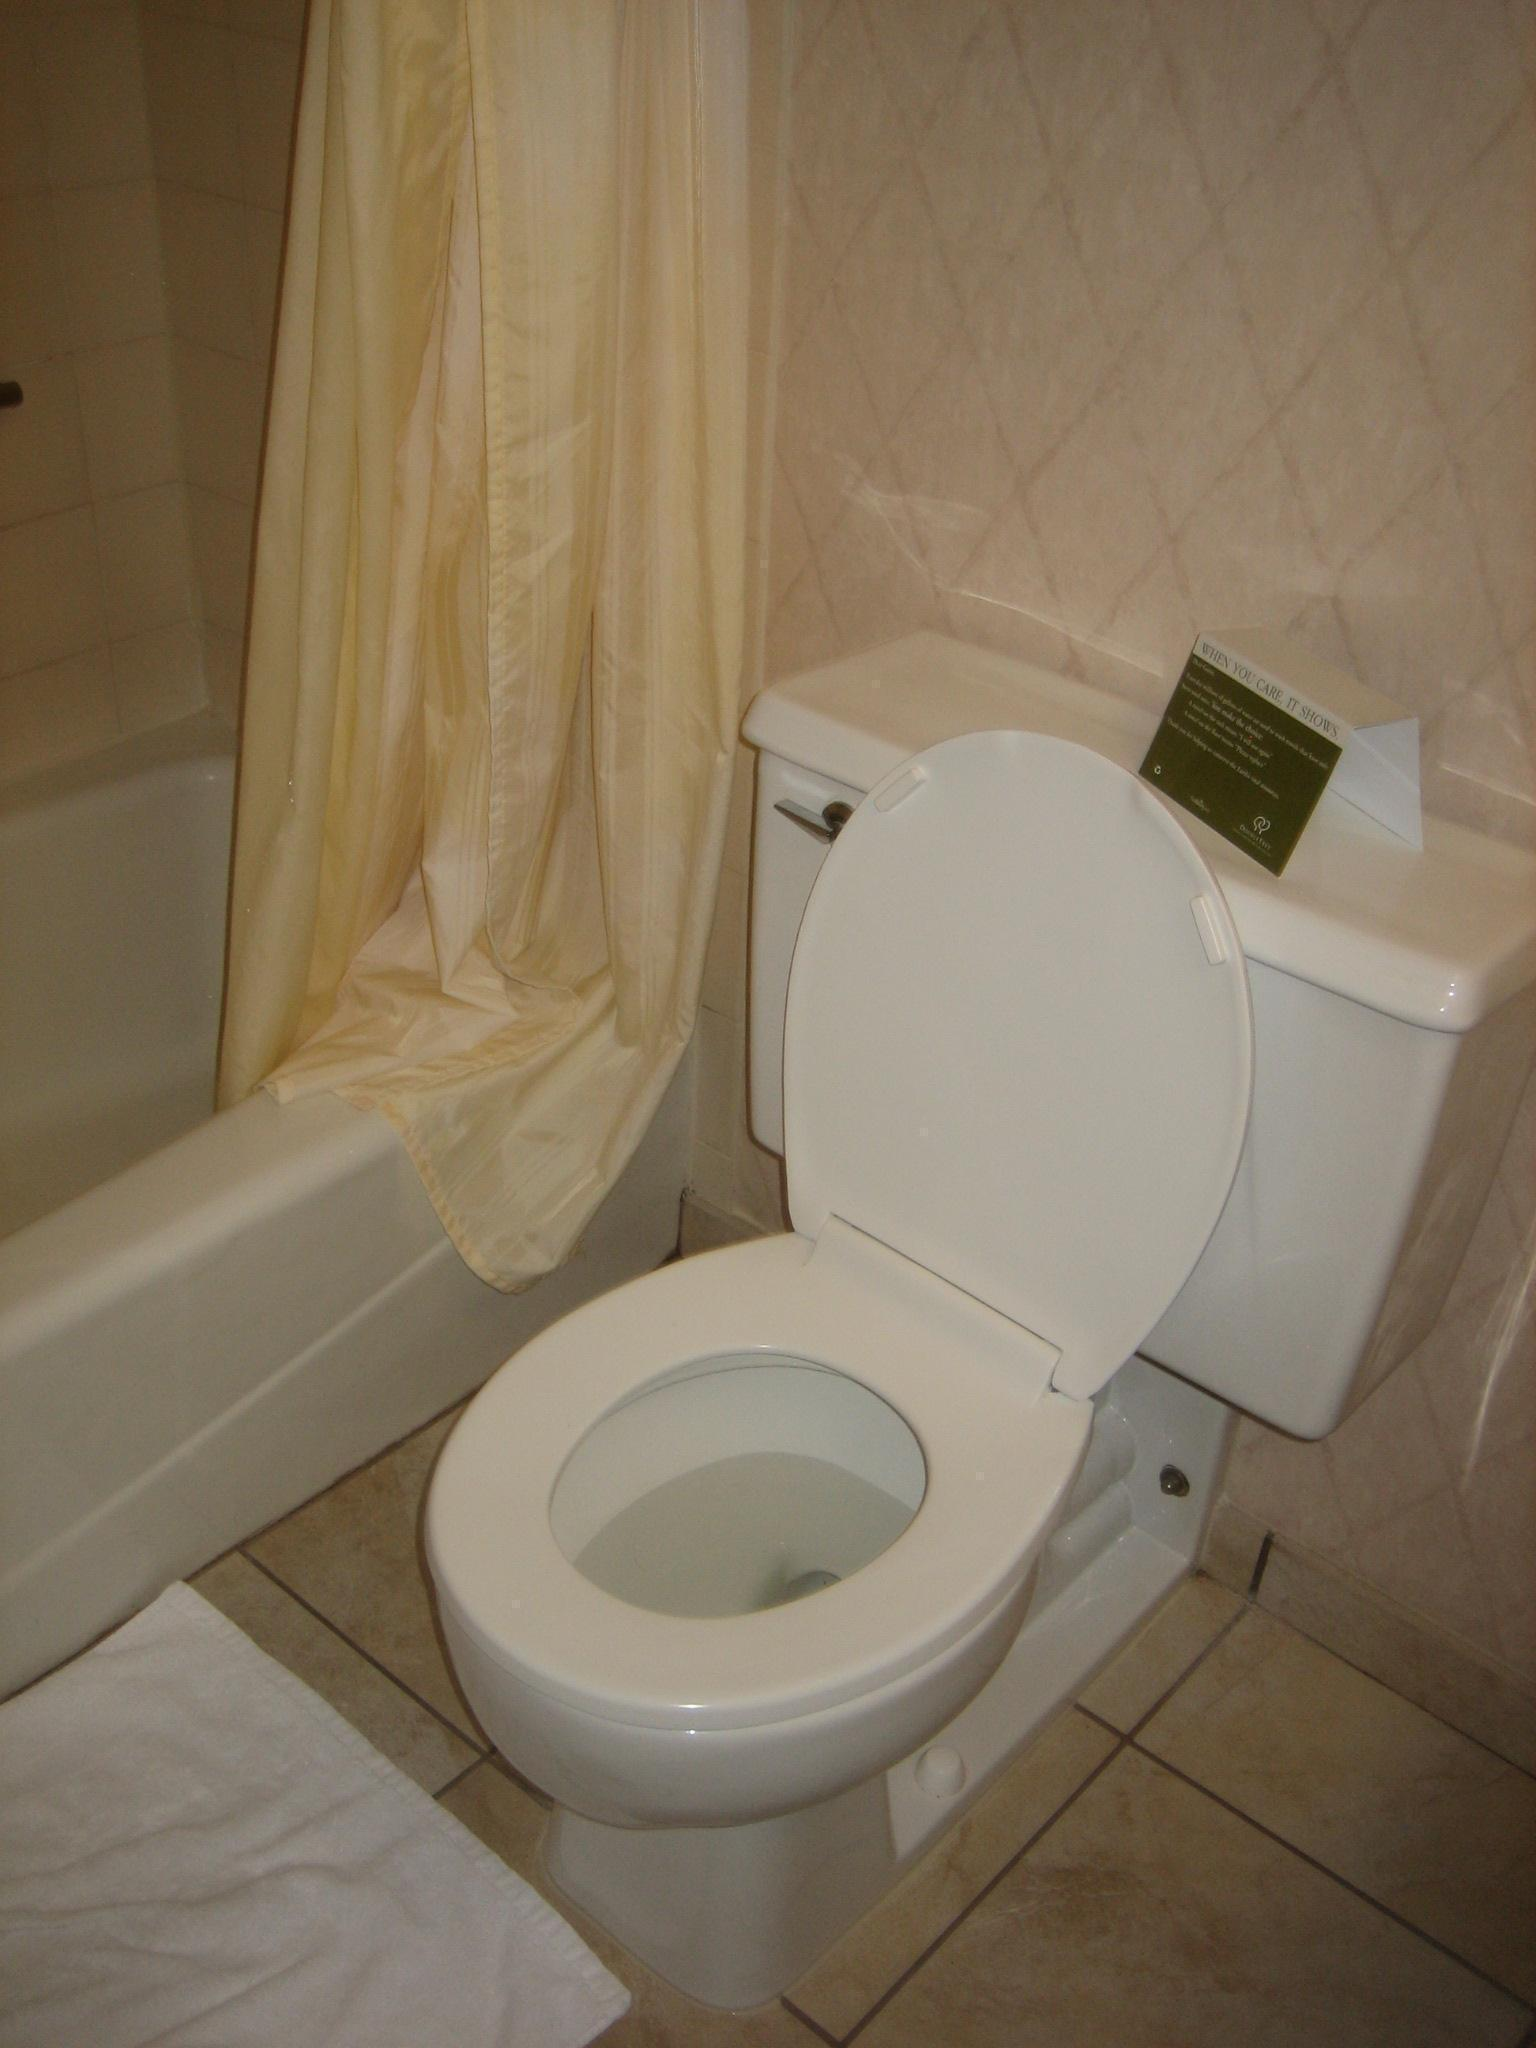Sanitario: (389, 560, 1512, 2013)
